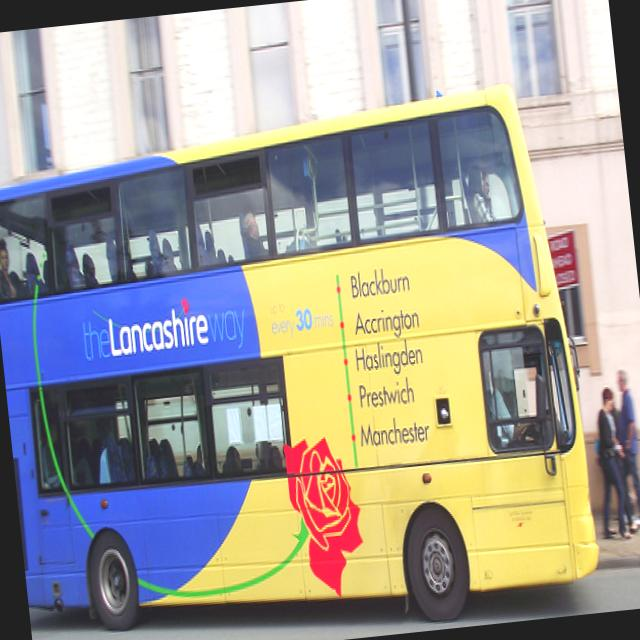Vehicle: (0, 77, 603, 640)
